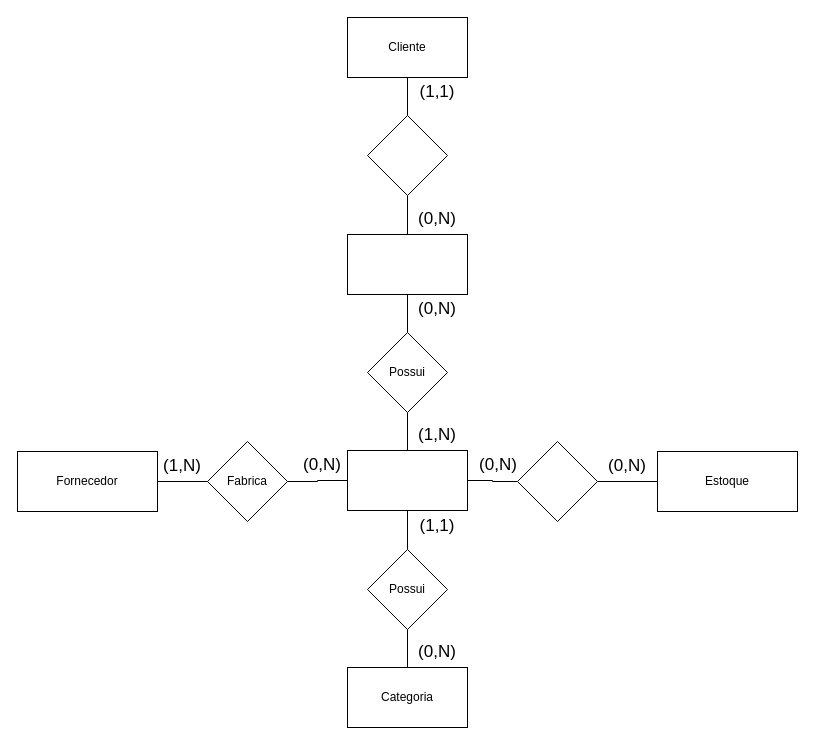
Some shapes in this 815 by 745 pixel diagram are drawn without their labels. Here are the shapes that lost their labels. From the top down, the box of each, then its label:
(366, 114, 448, 196): Realiza
(346, 234, 468, 294): Pedido
(346, 450, 468, 510): Produto
(516, 440, 598, 522): Armazena
